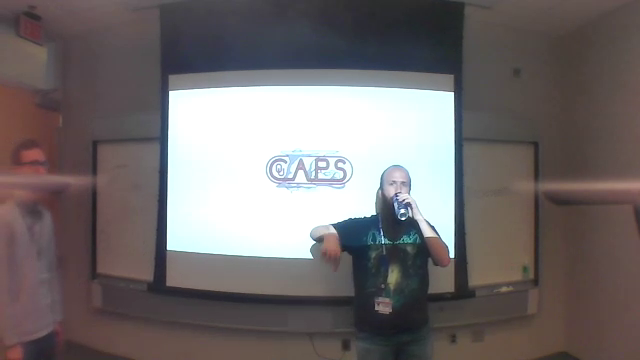down: (318, 225, 343, 282)
